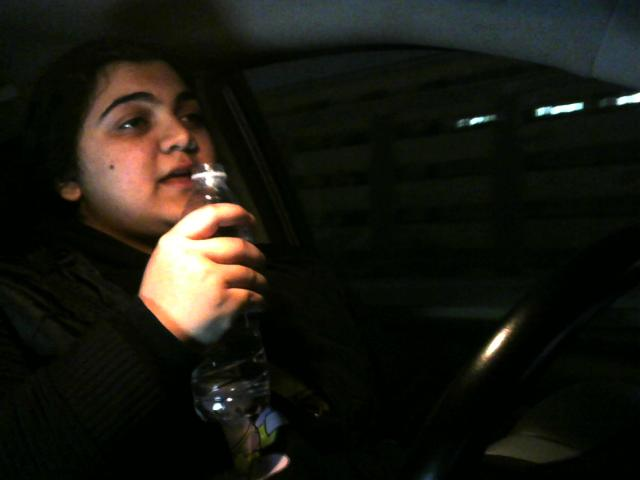Drinking: (57, 60, 267, 420)
